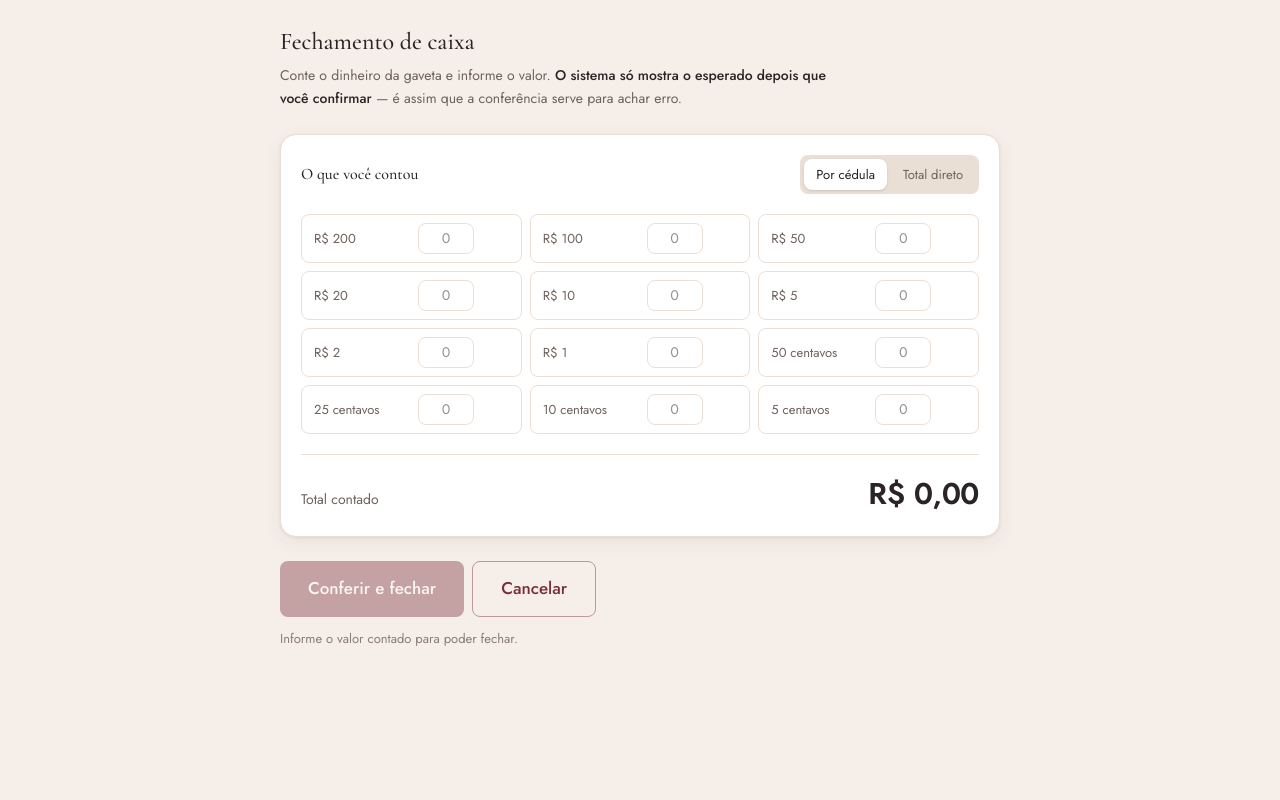
Test case: TelaFecharCaixa — conferência às cegas › a confirmação diz que a sessão não pode ser reaberta
Type "9" into the number field labelled "R$ 50" at (903, 238), box [875, 223, 931, 254]
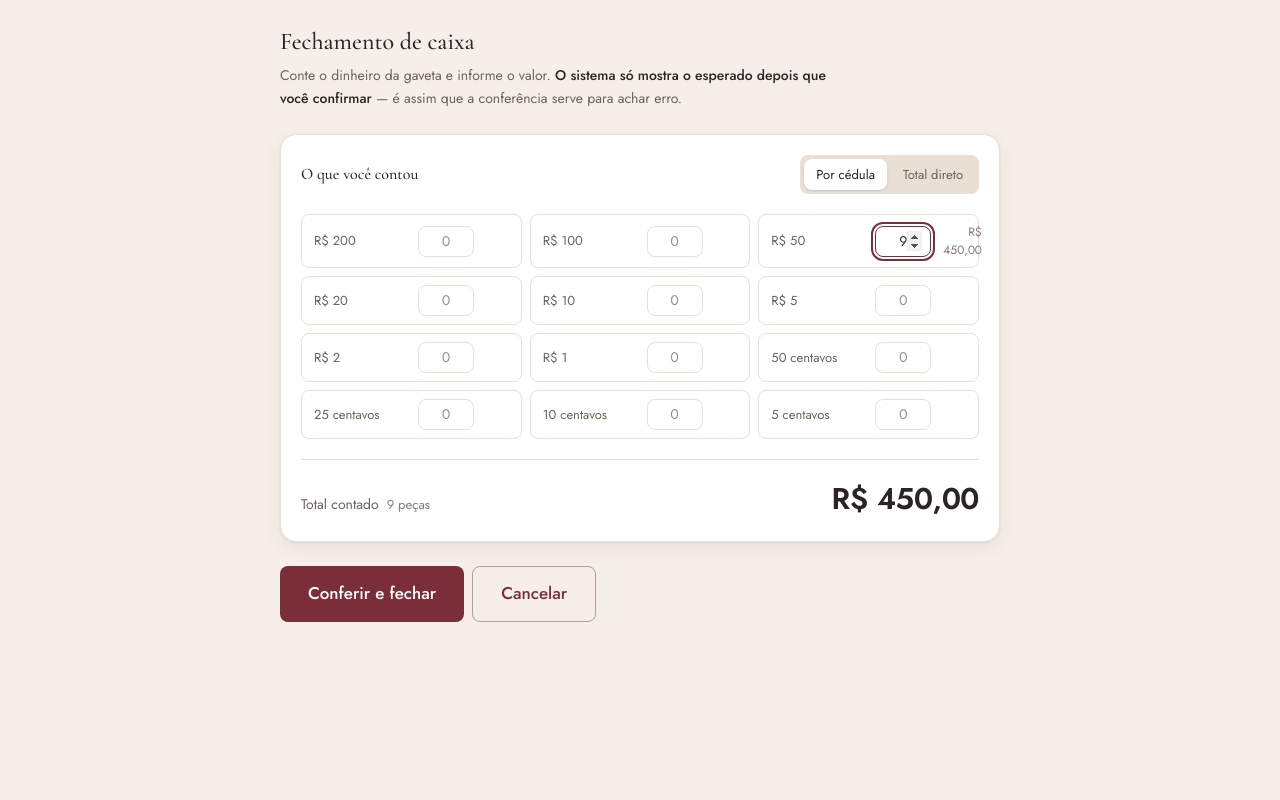
Click the button "Conferir e fechar" at (372, 594), box [280, 566, 464, 622]
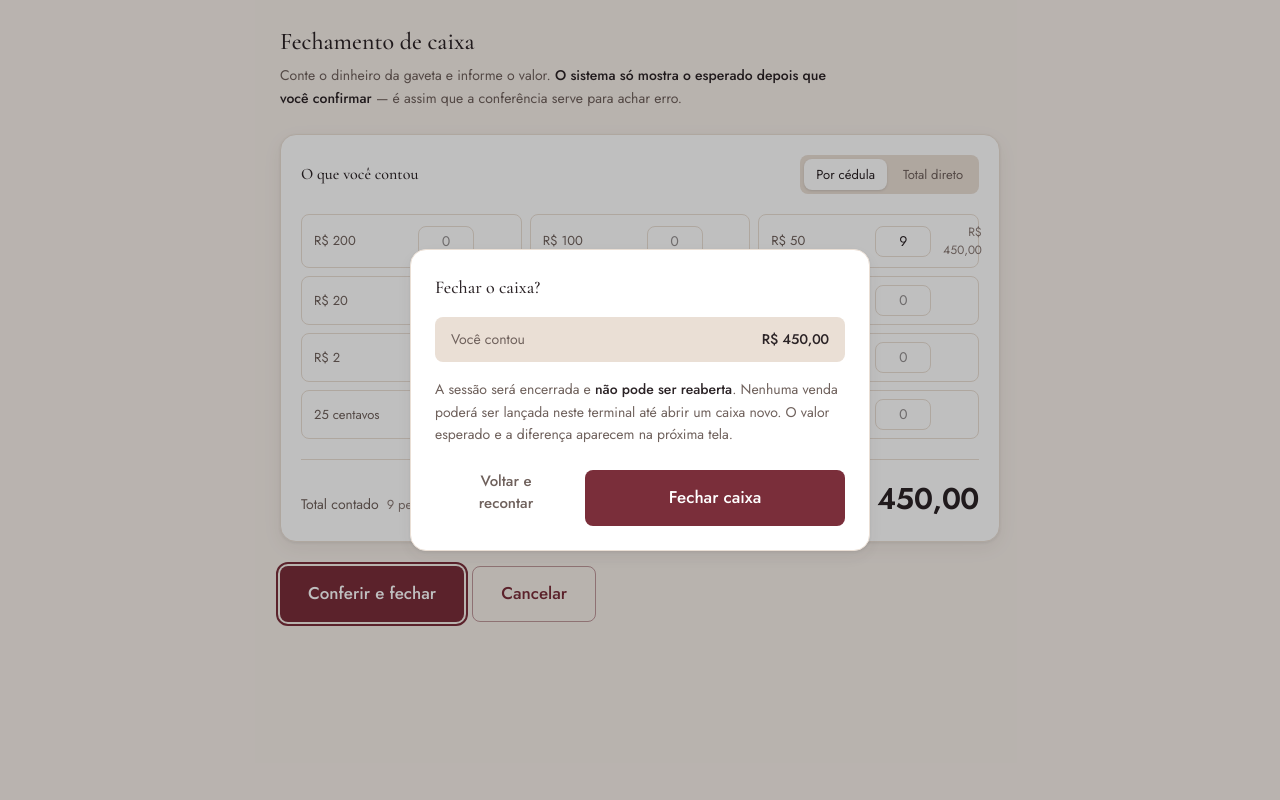
Expected: the dialog shows "não pode ser reaberta", [595, 379, 732, 399]
Expected: the dialog shows "R$ 450,00", [762, 329, 829, 349]
